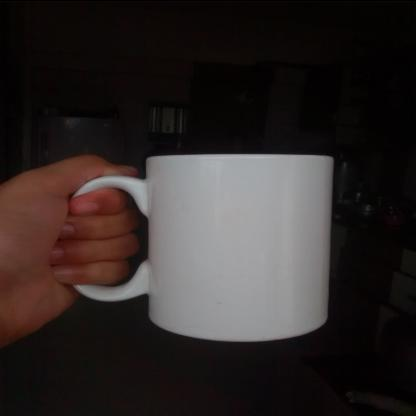bottle: (1, 53, 217, 250)
